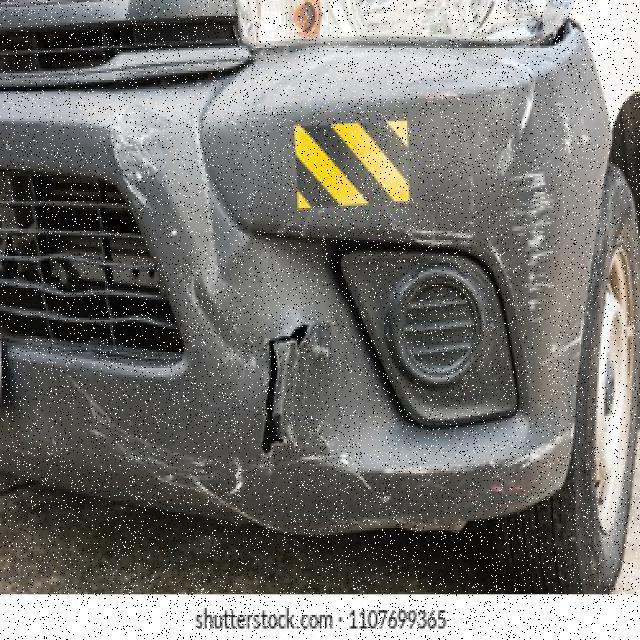front-bumper-dent: (51, 30, 608, 551)
